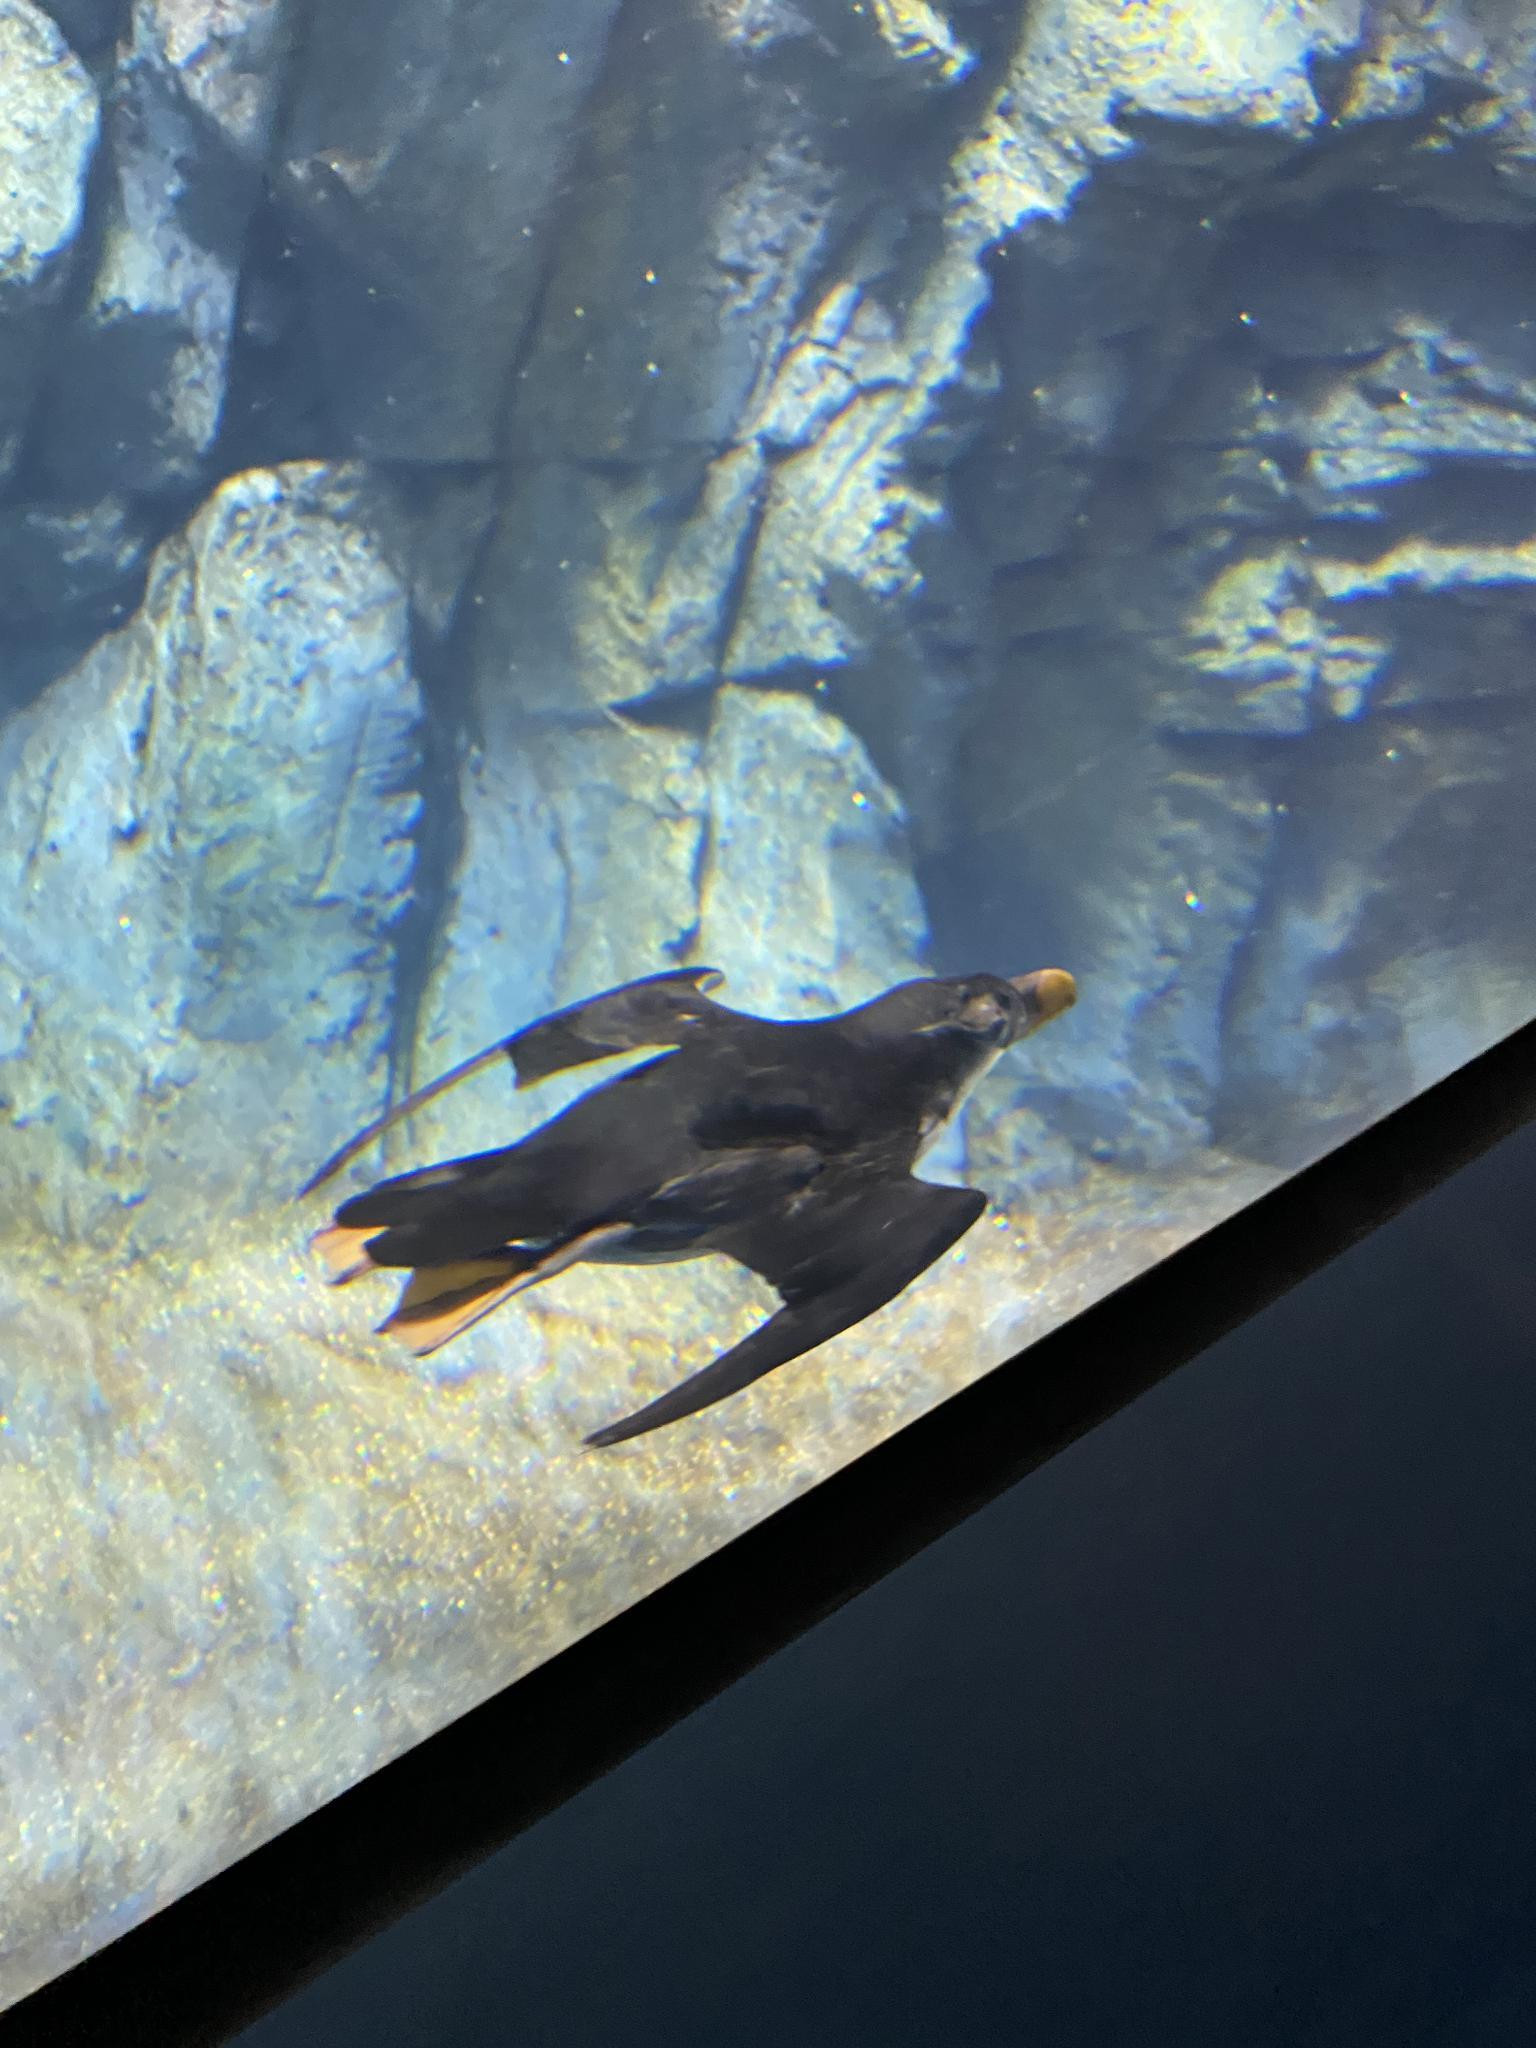puffin: (292, 964, 1078, 1450)
